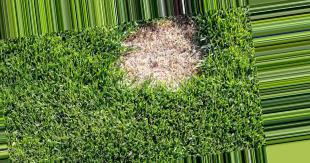patch: (140, 35, 184, 73), (124, 53, 139, 70)
